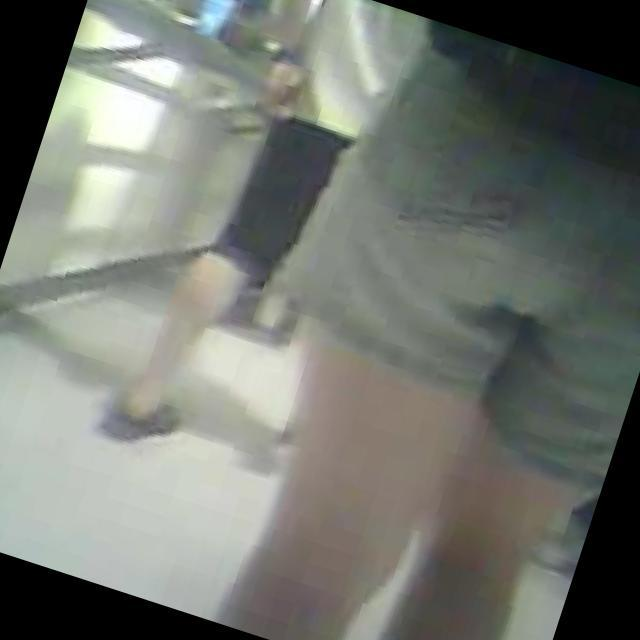person: (185, 4, 640, 640), (98, 0, 439, 495)
